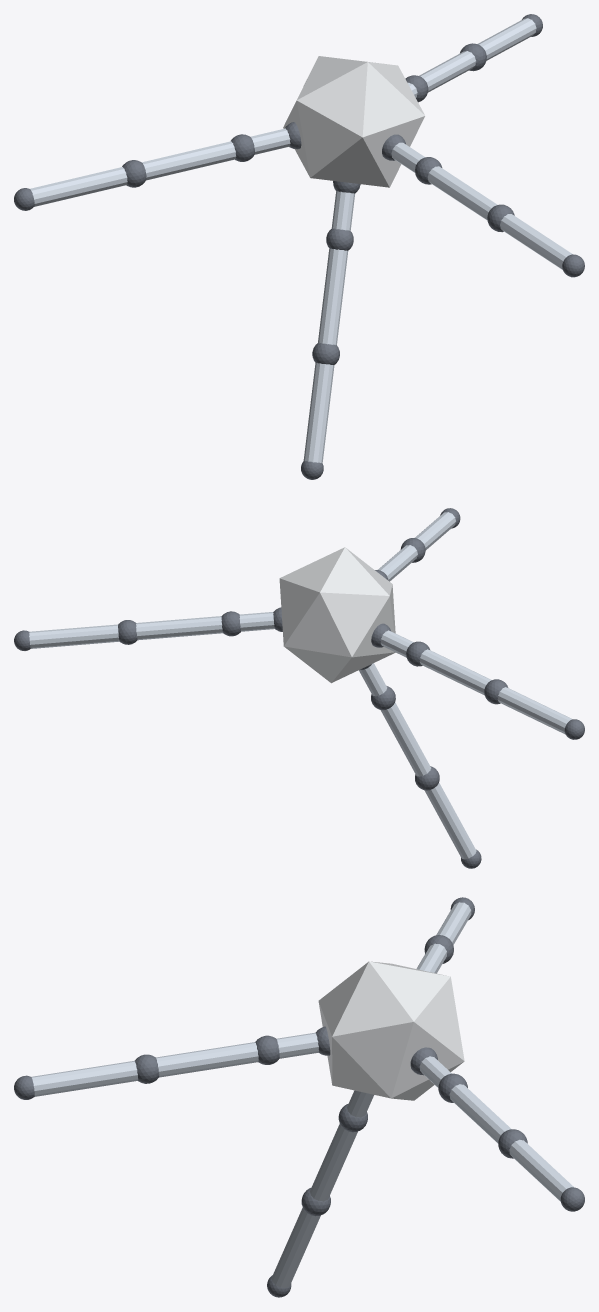
Rendered from g0_3333_1_abs.glb.
3 views of the same model, one above another, from view 1: azimuth 30°, elevation 25°; view 2: azimuth 150°, elevation 25°; view 3: azimuth 270°, elevation 25° (orthographic). The views are drawn at different scales.
Visible parts, largest first — view 1: geom_0, geom_27, geom_25, geom_13, geom_11, geom_20, geom_18, geom_6, geom_4, geom_23, geom_9; view 2: geom_0, geom_6, geom_4, geom_27, geom_13, geom_25, geom_11, geom_20, geom_18, geom_2, geom_23, geom_9; view 3: geom_0, geom_20, geom_18, geom_27, geom_25, geom_6, geom_4, geom_16, geom_13, geom_17, geom_19, geom_11 (+2 smaller).
Boxes of the visible parts, <box> form: geom_0: <box>283,56,424,187</box>; geom_27: <box>303,363,334,462</box>; geom_25: <box>318,248,348,345</box>; geom_13: <box>30,167,127,206</box>; geom_11: <box>142,141,236,180</box>; geom_20: <box>500,214,572,269</box>; geom_18: <box>427,166,497,220</box>; geom_6: <box>477,18,536,60</box>; geom_4: <box>419,51,476,92</box>; geom_23: <box>331,191,355,230</box>; geom_9: <box>250,128,290,154</box>; geom_0: <box>279,547,395,683</box>; geom_6: <box>29,624,119,648</box>; geom_4: <box>136,616,222,640</box>; geom_27: <box>424,782,476,859</box>; geom_13: <box>497,687,572,734</box>; geom_25: <box>380,702,431,776</box>; geom_11: <box>419,649,491,695</box>; geom_20: <box>415,512,455,550</box>; geom_18: <box>378,545,417,581</box>; geom_2: <box>239,611,274,631</box>; geom_23: <box>359,663,387,696</box>; geom_9: <box>380,630,413,657</box>; geom_0: <box>318,961,464,1100</box>; geom_20: <box>31,1060,137,1096</box>; geom_18: <box>156,1042,258,1077</box>; geom_27: <box>271,1207,320,1287</box>; geom_25: <box>310,1123,357,1201</box>; geom_6: <box>509,1139,574,1201</box>; geom_4: <box>449,1084,511,1143</box>; geom_16: <box>276,1032,318,1058</box>; geom_13: <box>436,902,471,944</box>; geom_17: <box>255,1035,279,1064</box>; geom_19: <box>135,1054,159,1083</box>; geom_11: <box>416,943,446,973</box>.
Size of the model in its own units: 0.6946 by 0.4161 by 0.5584.
